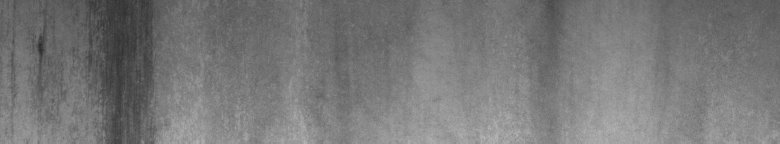ka: (11, 16, 152, 136)
